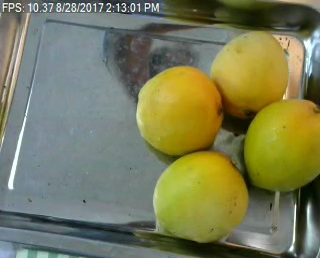Mango: (152, 151, 250, 239), (138, 66, 223, 154), (244, 98, 319, 191), (210, 31, 288, 115)
